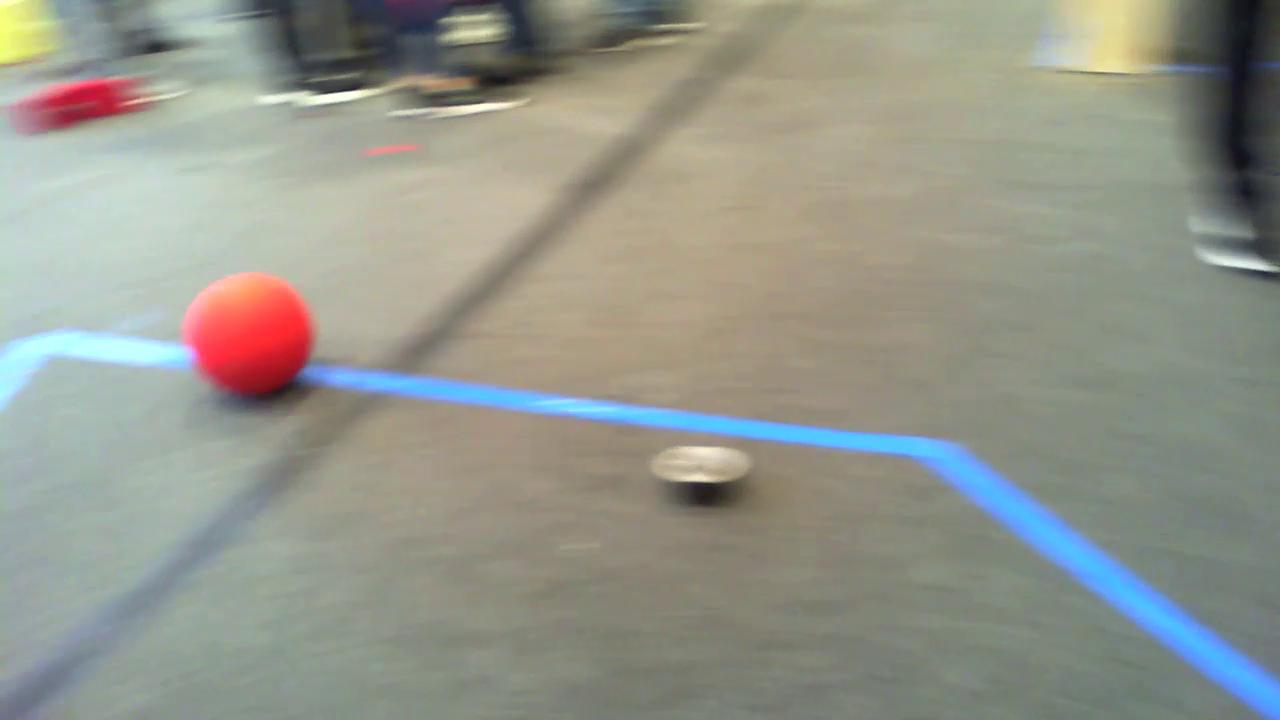Red_Ball: (181, 261, 320, 399)
